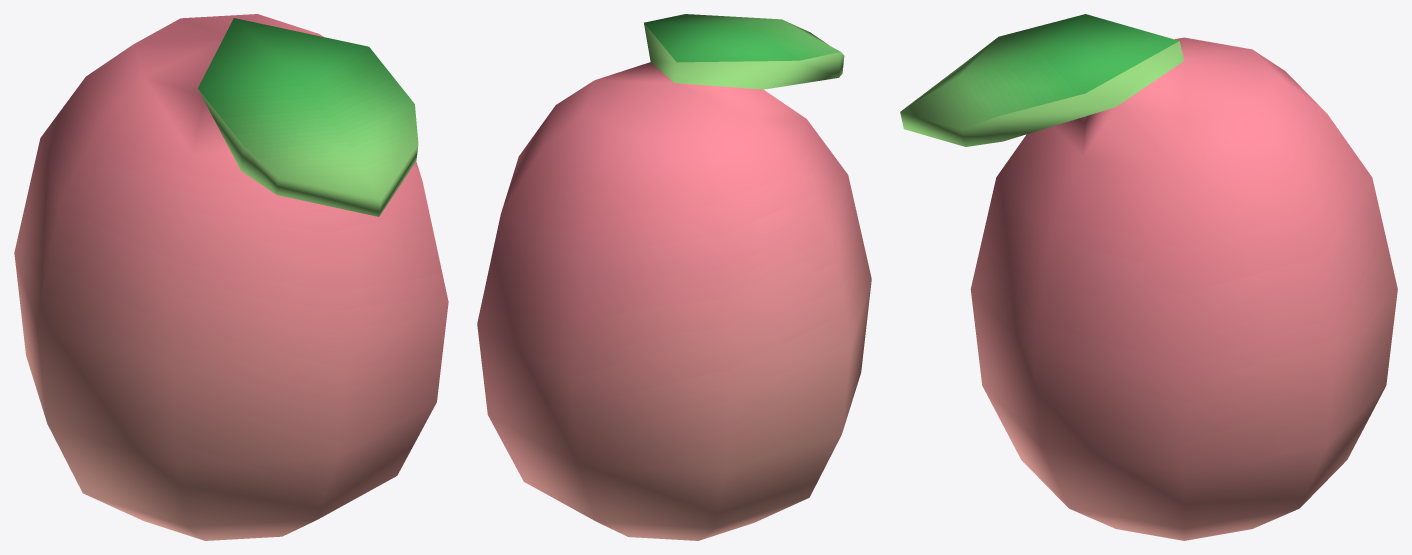
File: Froot.fbx
The picture shows the model from 3 angles, left to right: view 1: azimuth 30°, elevation 25°; view 2: azimuth 150°, elevation 25°; view 3: azimuth 270°, elevation 25°; orthographic projection. The views are drawn at different scales.
Visible parts, largest first — view 1: Sphere.001; view 2: Sphere.001; view 3: Sphere.001.
Part boxes in pixels (<box>): Sphere.001: <box>14,14,448,540</box>; Sphere.001: <box>477,14,871,540</box>; Sphere.001: <box>900,14,1397,540</box>.
Size of the model in its own units: 86.03 by 106 by 100.
